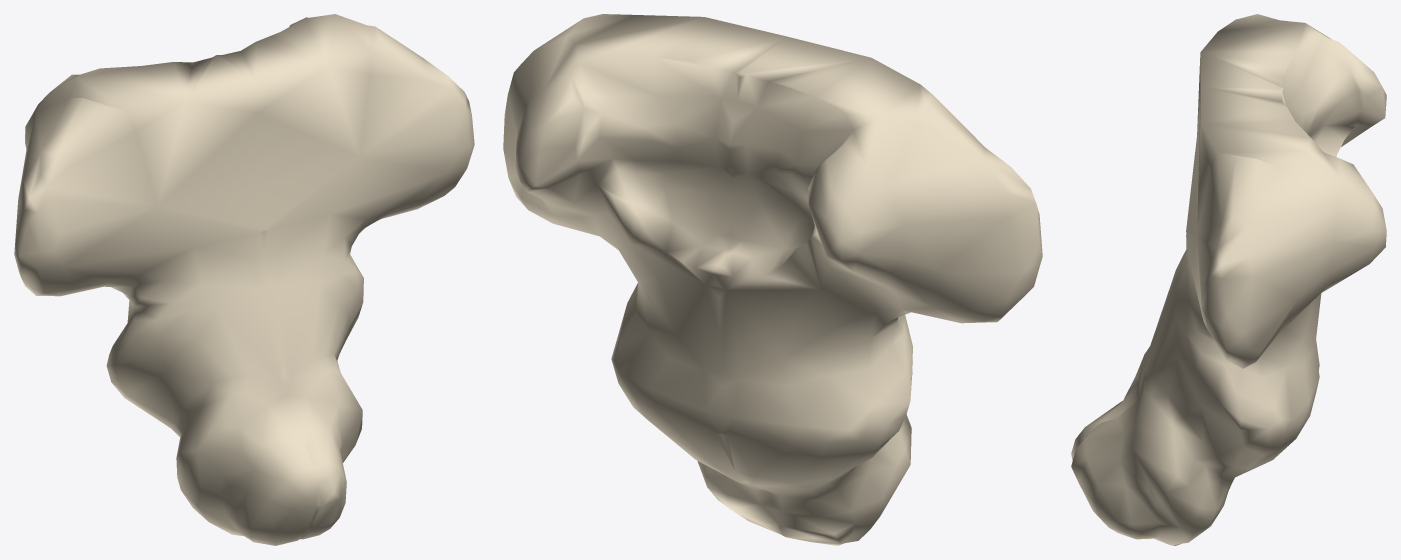
File: coccyx.glb
3 views of the same model, side by side, from view 1: azimuth 30°, elevation 25°; view 2: azimuth 150°, elevation 25°; view 3: azimuth 270°, elevation 25° (orthographic). The views are drawn at different scales.
Visible parts, largest first — view 1: Coccyx; view 2: Coccyx; view 3: Coccyx.
Boxes of the visible parts, x1=… form: Coccyx: x1=14, y1=14, x2=474, y2=545; Coccyx: x1=503, y1=14, x2=1042, y2=545; Coccyx: x1=1071, y1=14, x2=1386, y2=545.
Size of the model in its own units: 0.0335 by 0.0308 by 0.0197.
